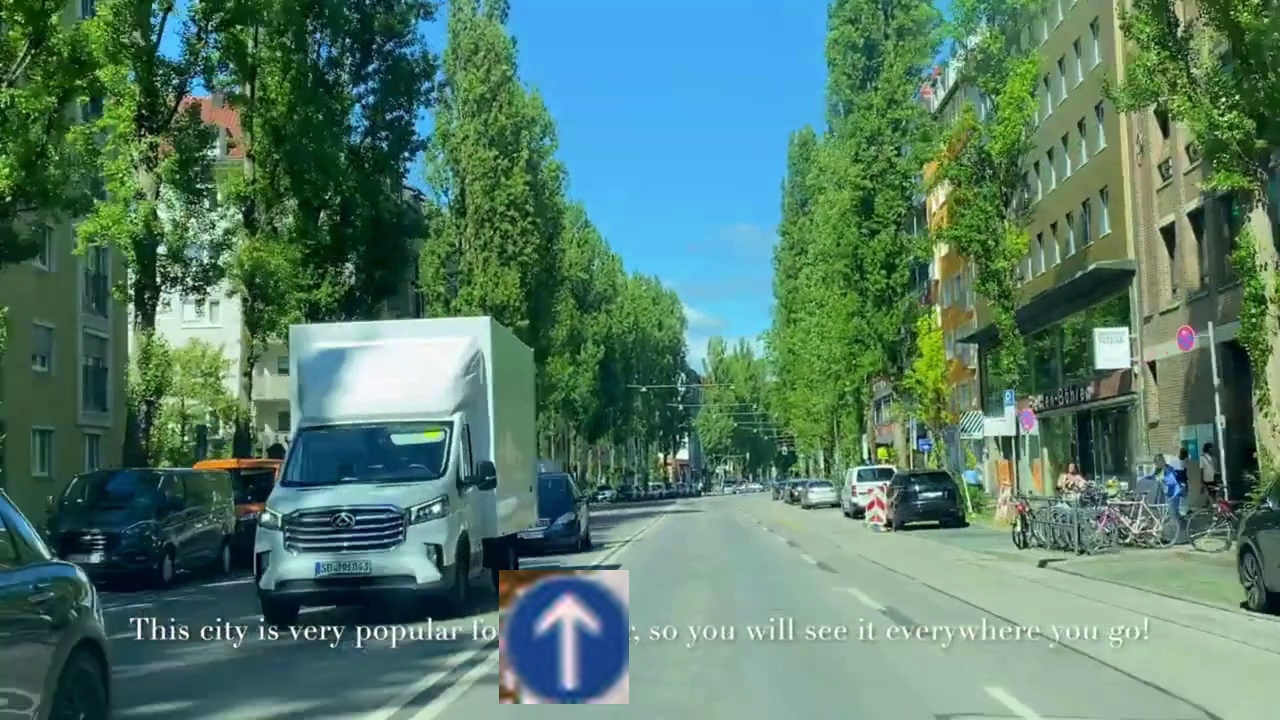Ahead only: (499, 570, 629, 704)
